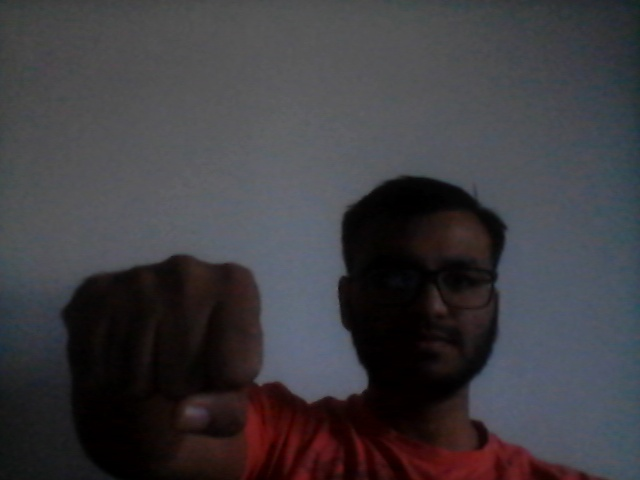Thanks: (55, 253, 269, 433)
